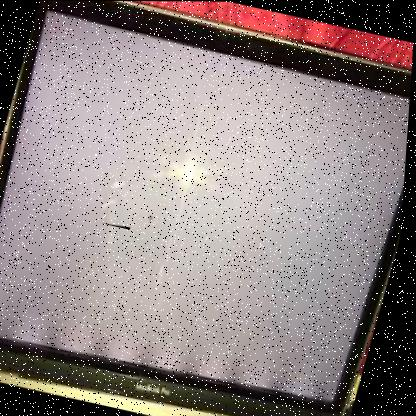spot: (89, 169, 147, 230)
